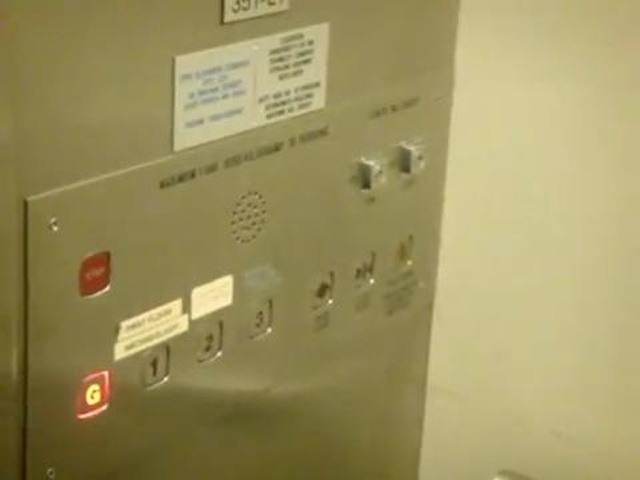1: (141, 344, 171, 389)
2: (196, 320, 225, 366)
3: (246, 297, 274, 342)
G: (78, 370, 109, 419)
blur: (78, 249, 112, 298)
close: (353, 252, 375, 293)
keyhole: (397, 136, 428, 179), (358, 153, 390, 192)
open: (310, 269, 334, 313)
